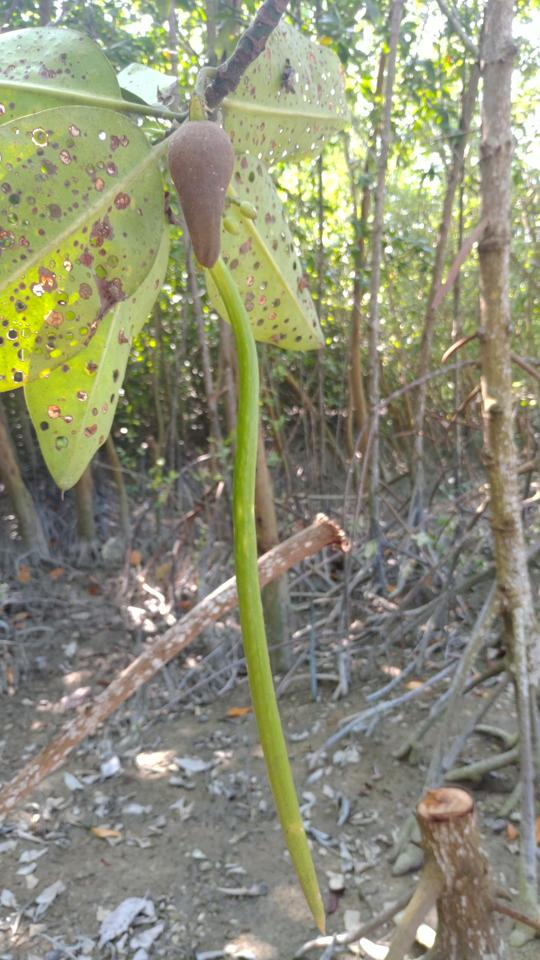mentah: (126, 79, 348, 944)
